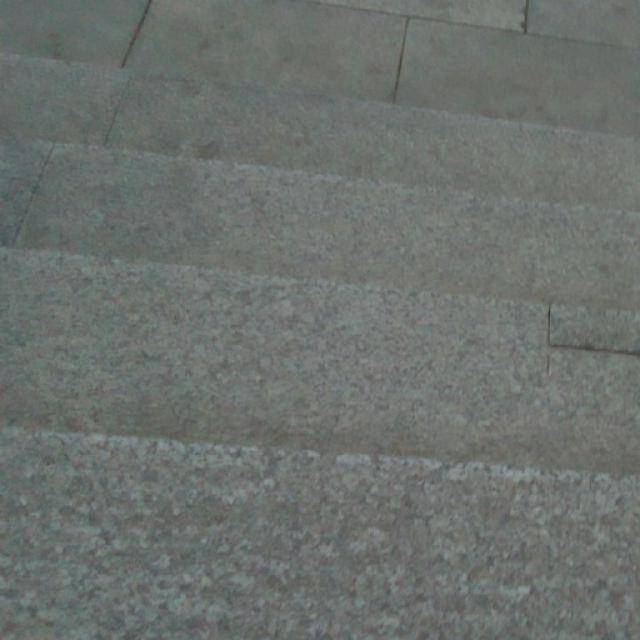stair: (0, 98, 624, 582)
